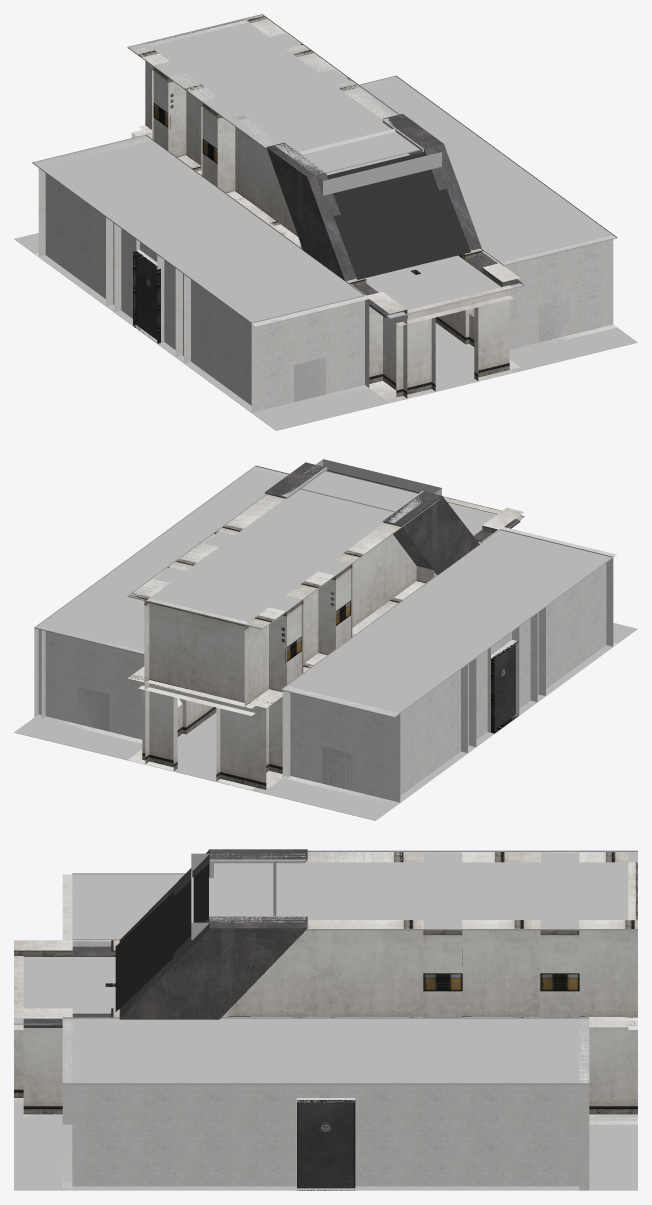
The model's file is cont_427_714_860_1025.dae.
3 views of the same model, one above another, from view 1: azimuth 30°, elevation 25°; view 2: azimuth 150°, elevation 25°; view 3: azimuth 270°, elevation 25° (orthographic). The views are drawn at different scales.
Visible parts, largest first — view 1: concretefloor.jpg, white.jpg, whitewall.jpg, cable_black.jpg, dirtymetal.jpg, door01.jpg; view 2: concretefloor.jpg, white.jpg, whitewall.jpg, dirtymetal.jpg, door01.jpg, metalpanels2.jpg; view 3: concretefloor.jpg, white.jpg, whitewall.jpg, dirtymetal.jpg, cable_black.jpg, door01.jpg, metalpanels2.jpg.
Part boxes in pixels (x1=…): concretefloor.jpg: x1=14, y1=14, x2=637, y2=430; white.jpg: x1=14, y1=81, x2=616, y2=430; whitewall.jpg: x1=131, y1=15, x2=519, y2=402; cable_black.jpg: x1=327, y1=152, x2=470, y2=279; dirtymetal.jpg: x1=170, y1=93, x2=521, y2=317; door01.jpg: x1=133, y1=250, x2=160, y2=343; concretefloor.jpg: x1=14, y1=459, x2=637, y2=820; white.jpg: x1=34, y1=467, x2=637, y2=820; whitewall.jpg: x1=128, y1=494, x2=523, y2=790; dirtymetal.jpg: x1=264, y1=462, x2=520, y2=642; door01.jpg: x1=491, y1=641, x2=518, y2=733; metalpanels2.jpg: x1=148, y1=581, x2=425, y2=703; concretefloor.jpg: x1=14, y1=850, x2=637, y2=1190; white.jpg: x1=62, y1=874, x2=589, y2=1190; whitewall.jpg: x1=14, y1=852, x2=637, y2=1124; dirtymetal.jpg: x1=23, y1=849, x2=462, y2=1027; cable_black.jpg: x1=115, y1=863, x2=208, y2=1011; door01.jpg: x1=297, y1=1100, x2=355, y2=1190; metalpanels2.jpg: x1=228, y1=973, x2=628, y2=1017.
Size of the model in its own units: 16.32 by 20.48 by 7.15.
